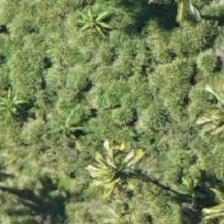coconut_tree: (72, 118, 162, 208), (0, 143, 47, 223)
